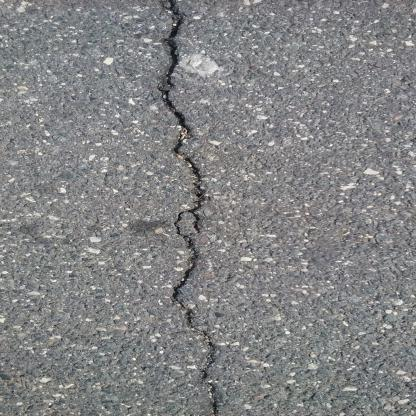Cracks: (139, 0, 230, 415)
